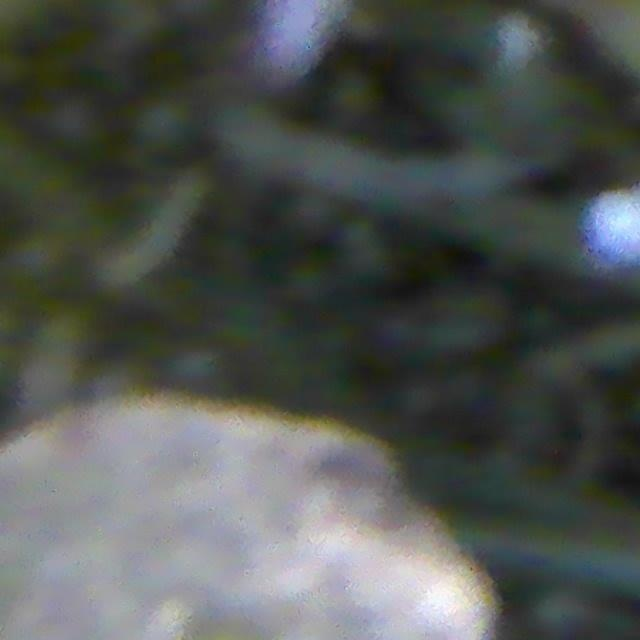SeaGrape: (134, 95, 194, 153)
